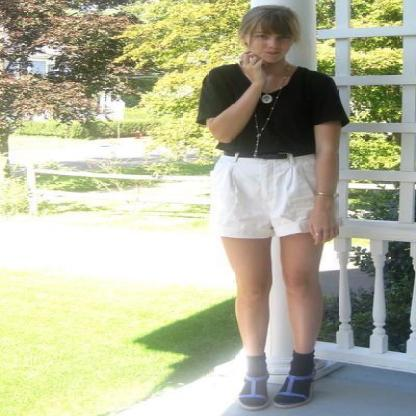shirt: (196, 61, 350, 159)
shoe: (242, 350, 320, 408)
shorts: (196, 149, 320, 241)
